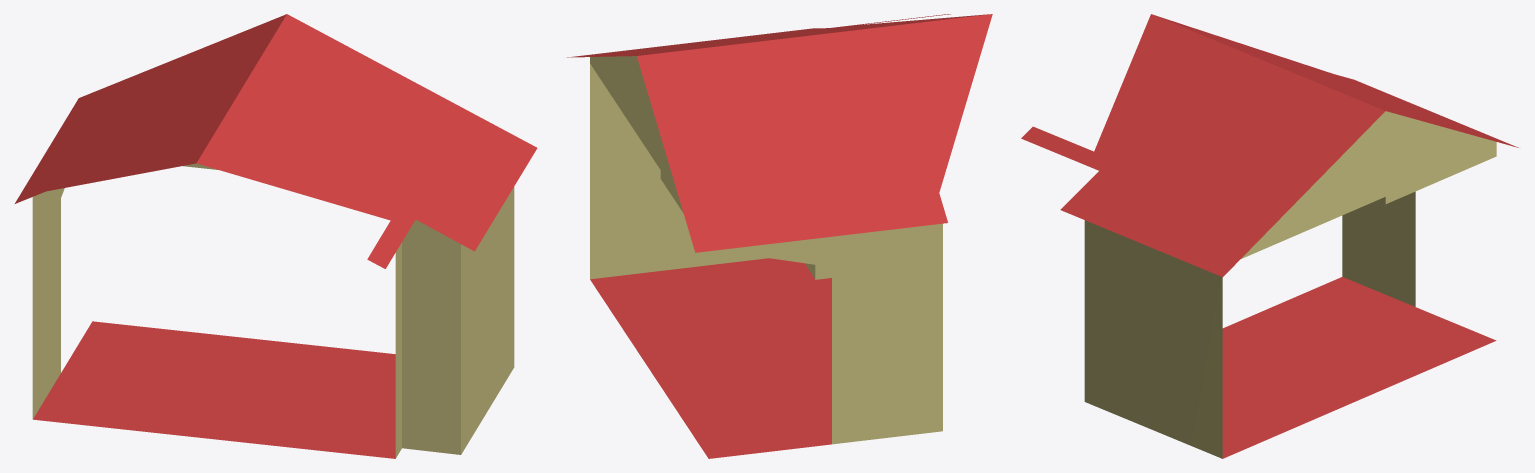
The picture shows the model from 3 angles, left to right: view 1: azimuth 30°, elevation 25°; view 2: azimuth 150°, elevation 25°; view 3: azimuth 270°, elevation 25°; orthographic projection. The views are drawn at different scales.
Size of the model in its own units: 20.51 by 21.92 by 13.93.
